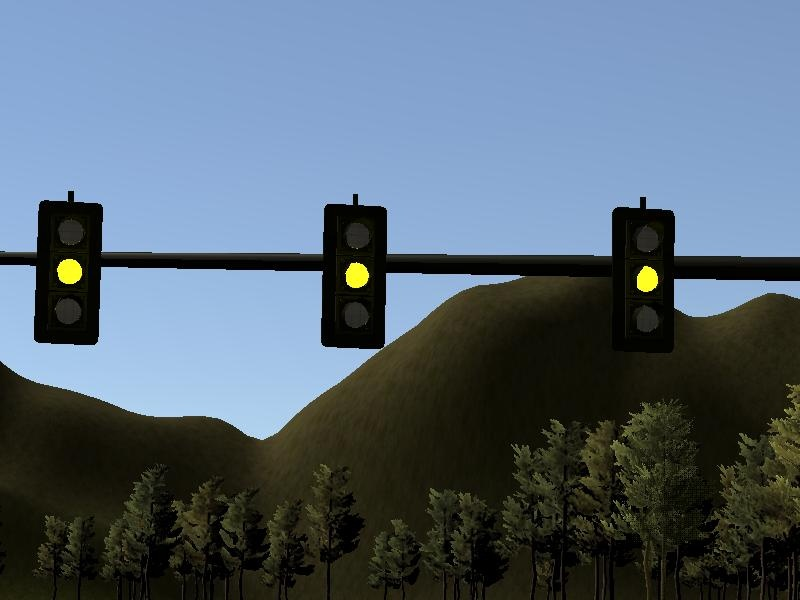yellow: (604, 185, 686, 358), (316, 188, 393, 358), (29, 185, 107, 350)
